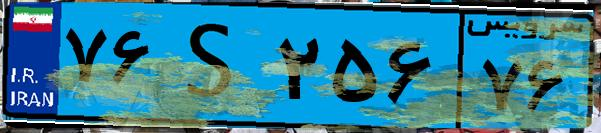2: (270, 28, 330, 110)
5: (330, 28, 385, 110)
6: (385, 28, 445, 110), (525, 38, 570, 115), (110, 28, 158, 98)
7: (57, 26, 110, 100), (475, 38, 525, 113)
S: (158, 12, 270, 120)
